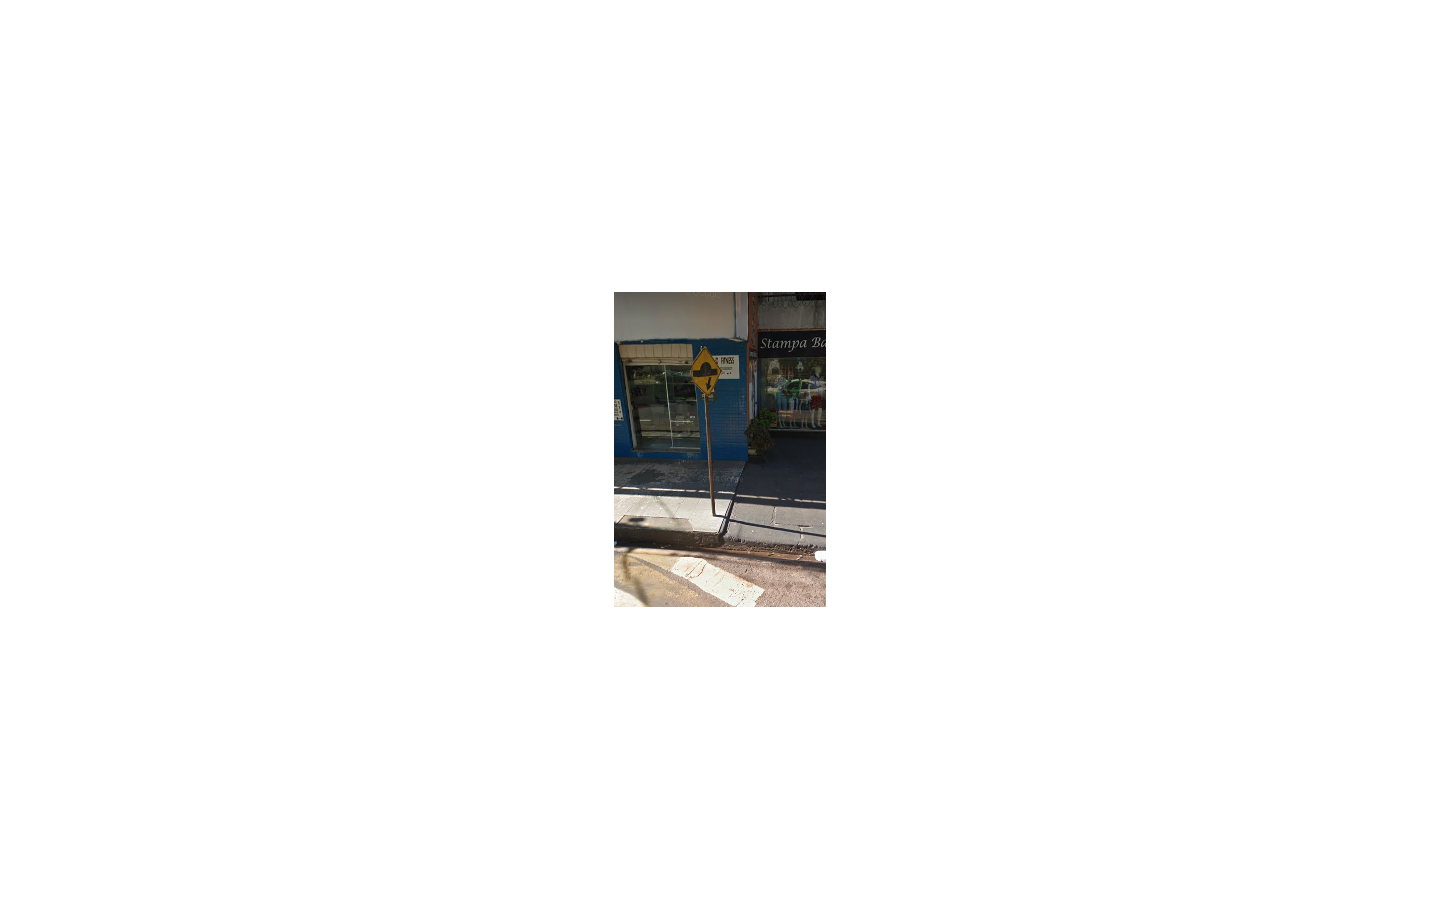lomb: (690, 346, 722, 396)
